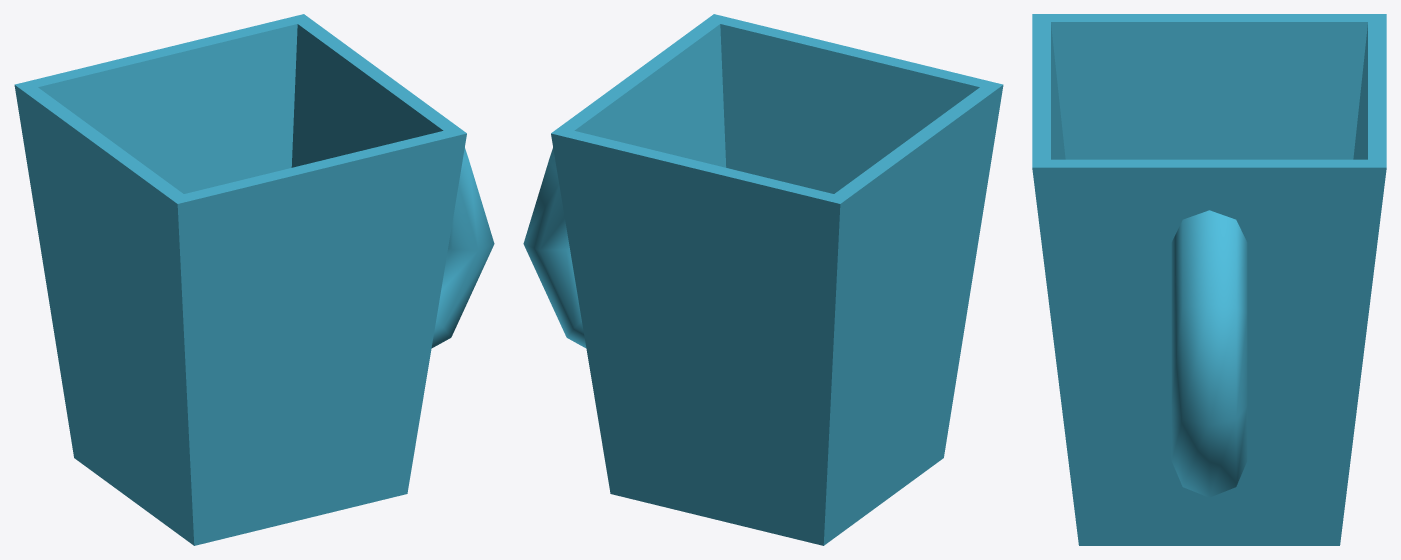
The model's file is Itr_Obj_Cup1_04.FBX.
3 renders of one model, left to right at view 1: azimuth 30°, elevation 25°; view 2: azimuth 150°, elevation 25°; view 3: azimuth 270°, elevation 25°, orthographic. The views are drawn at different scales.
Parts seen in each view (by area): view 1: Itr_Obj_Cup1_04; view 2: Itr_Obj_Cup1_04; view 3: Itr_Obj_Cup1_04.
Part boxes in pixels (<box>): Itr_Obj_Cup1_04: <box>14,14,494,545</box>; Itr_Obj_Cup1_04: <box>523,14,1003,545</box>; Itr_Obj_Cup1_04: <box>1032,14,1386,545</box>.
Bounding box in the file's own units: 6.33 × 5.62 × 4.53.
